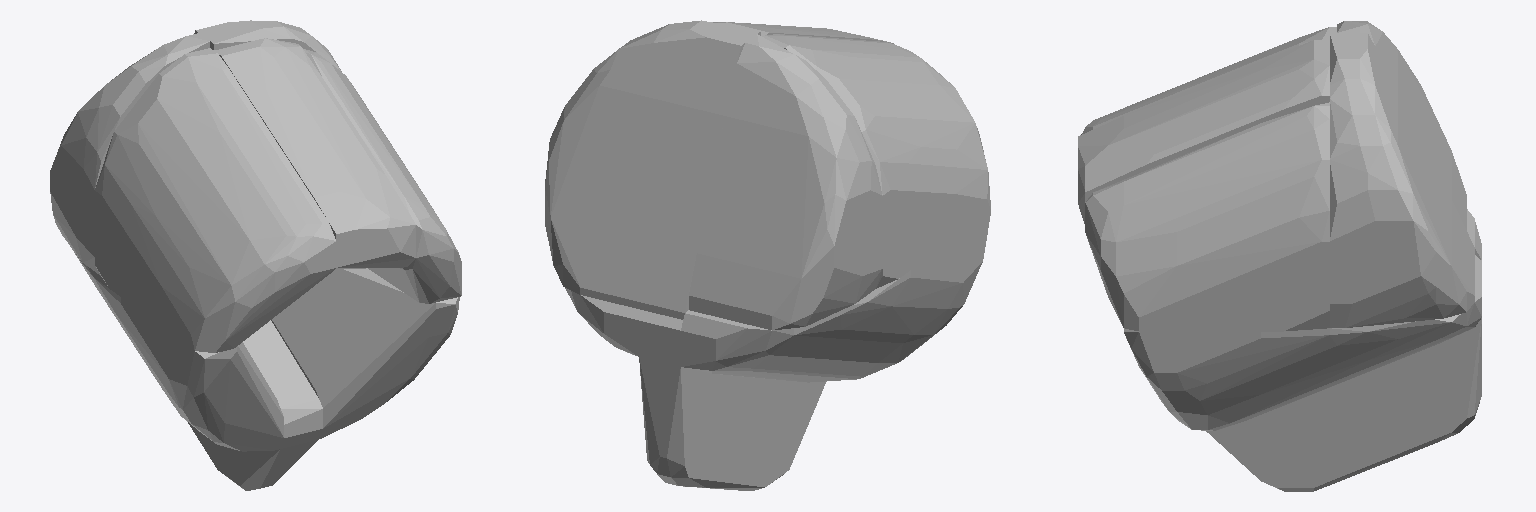
The robot description file, URDF, robot "root":
<robot name="root">
  <link name="link_ec846432f3ebedf0a6f32a8797e3b9e9_convex_piece_0">
    <inertial>
      <origin rpy="0 0 0" xyz="0 0 0"/>
      <mass value="2.76E-06"/>
      <inertia ixx="3.30E-10" ixy="1.50E-11" ixz="1.36E-10" iyy="3.80E-10" iyz="-5.29E-12" izz="5.40E-10"/>
    </inertial>
    <visual>
      <origin rpy="0 0 0" xyz="0 0 0"/>
      <geometry>
        <mesh filename="ec846432f3ebedf0a6f32a8797e3b9e9_convex_piece_0.obj" scale="1.0000E+00"/>
      </geometry>
      <material name="">
        <color rgba="7.50E-01 7.50E-01 7.50E-01 1"/>
      </material>
    </visual>
    <collision>
      <origin rpy="0 0 0" xyz="0 0 0"/>
      <geometry>
        <mesh filename="ec846432f3ebedf0a6f32a8797e3b9e9_convex_piece_0.obj" scale="1.0000E+00"/>
      </geometry>
    </collision>
  </link>
  <link name="link_ec846432f3ebedf0a6f32a8797e3b9e9_convex_piece_1">
    <inertial>
      <origin rpy="0 0 0" xyz="0 0 0"/>
      <mass value="3.05E-06"/>
      <inertia ixx="6.89E-10" ixy="1.66E-10" ixz="-3.15E-10" iyy="7.91E-10" iyz="-1.97E-10" izz="6.33E-10"/>
    </inertial>
    <visual>
      <origin rpy="0 0 0" xyz="0 0 0"/>
      <geometry>
        <mesh filename="ec846432f3ebedf0a6f32a8797e3b9e9_convex_piece_1.obj" scale="1.0000E+00"/>
      </geometry>
      <material name="">
        <color rgba="7.50E-01 7.50E-01 7.50E-01 1"/>
      </material>
    </visual>
    <collision>
      <origin rpy="0 0 0" xyz="0 0 0"/>
      <geometry>
        <mesh filename="ec846432f3ebedf0a6f32a8797e3b9e9_convex_piece_1.obj" scale="1.0000E+00"/>
      </geometry>
    </collision>
  </link>
  <joint name="link_ec846432f3ebedf0a6f32a8797e3b9e9_convex_piece_1_joint" type="fixed">
    <origin rpy="0 0 0" xyz="0 0 0"/>
    <parent link="link_ec846432f3ebedf0a6f32a8797e3b9e9_convex_piece_0"/>
    <child link="link_ec846432f3ebedf0a6f32a8797e3b9e9_convex_piece_1"/>
  </joint>
  <link name="link_ec846432f3ebedf0a6f32a8797e3b9e9_convex_piece_2">
    <inertial>
      <origin rpy="0 0 0" xyz="0 0 0"/>
      <mass value="1.81E-06"/>
      <inertia ixx="5.38E-10" ixy="-2.20E-10" ixz="-1.93E-10" iyy="4.74E-10" iyz="2.05E-10" izz="4.96E-10"/>
    </inertial>
    <visual>
      <origin rpy="0 0 0" xyz="0 0 0"/>
      <geometry>
        <mesh filename="ec846432f3ebedf0a6f32a8797e3b9e9_convex_piece_2.obj" scale="1.0000E+00"/>
      </geometry>
      <material name="">
        <color rgba="7.50E-01 7.50E-01 7.50E-01 1"/>
      </material>
    </visual>
    <collision>
      <origin rpy="0 0 0" xyz="0 0 0"/>
      <geometry>
        <mesh filename="ec846432f3ebedf0a6f32a8797e3b9e9_convex_piece_2.obj" scale="1.0000E+00"/>
      </geometry>
    </collision>
  </link>
  <joint name="link_ec846432f3ebedf0a6f32a8797e3b9e9_convex_piece_2_joint" type="fixed">
    <origin rpy="0 0 0" xyz="0 0 0"/>
    <parent link="link_ec846432f3ebedf0a6f32a8797e3b9e9_convex_piece_1"/>
    <child link="link_ec846432f3ebedf0a6f32a8797e3b9e9_convex_piece_2"/>
  </joint>
  <link name="link_ec846432f3ebedf0a6f32a8797e3b9e9_convex_piece_3">
    <inertial>
      <origin rpy="0 0 0" xyz="0 0 0"/>
      <mass value="1.70E-06"/>
      <inertia ixx="6.01E-10" ixy="8.64E-13" ixz="-1.66E-12" iyy="3.80E-10" iyz="-1.74E-10" izz="2.28E-10"/>
    </inertial>
    <visual>
      <origin rpy="0 0 0" xyz="0 0 0"/>
      <geometry>
        <mesh filename="ec846432f3ebedf0a6f32a8797e3b9e9_convex_piece_3.obj" scale="1.0000E+00"/>
      </geometry>
      <material name="">
        <color rgba="7.50E-01 7.50E-01 7.50E-01 1"/>
      </material>
    </visual>
    <collision>
      <origin rpy="0 0 0" xyz="0 0 0"/>
      <geometry>
        <mesh filename="ec846432f3ebedf0a6f32a8797e3b9e9_convex_piece_3.obj" scale="1.0000E+00"/>
      </geometry>
    </collision>
  </link>
  <joint name="link_ec846432f3ebedf0a6f32a8797e3b9e9_convex_piece_3_joint" type="fixed">
    <origin rpy="0 0 0" xyz="0 0 0"/>
    <parent link="link_ec846432f3ebedf0a6f32a8797e3b9e9_convex_piece_2"/>
    <child link="link_ec846432f3ebedf0a6f32a8797e3b9e9_convex_piece_3"/>
  </joint>
  <link name="link_ec846432f3ebedf0a6f32a8797e3b9e9_convex_piece_4">
    <inertial>
      <origin rpy="0 0 0" xyz="0 0 0"/>
      <mass value="2.48E-06"/>
      <inertia ixx="2.99E-10" ixy="-1.91E-11" ixz="-1.36E-10" iyy="3.52E-10" iyz="-3.58E-12" izz="4.78E-10"/>
    </inertial>
    <visual>
      <origin rpy="0 0 0" xyz="0 0 0"/>
      <geometry>
        <mesh filename="ec846432f3ebedf0a6f32a8797e3b9e9_convex_piece_4.obj" scale="1.0000E+00"/>
      </geometry>
      <material name="">
        <color rgba="7.50E-01 7.50E-01 7.50E-01 1"/>
      </material>
    </visual>
    <collision>
      <origin rpy="0 0 0" xyz="0 0 0"/>
      <geometry>
        <mesh filename="ec846432f3ebedf0a6f32a8797e3b9e9_convex_piece_4.obj" scale="1.0000E+00"/>
      </geometry>
    </collision>
  </link>
  <joint name="link_ec846432f3ebedf0a6f32a8797e3b9e9_convex_piece_4_joint" type="fixed">
    <origin rpy="0 0 0" xyz="0 0 0"/>
    <parent link="link_ec846432f3ebedf0a6f32a8797e3b9e9_convex_piece_3"/>
    <child link="link_ec846432f3ebedf0a6f32a8797e3b9e9_convex_piece_4"/>
  </joint>
  <link name="link_ec846432f3ebedf0a6f32a8797e3b9e9_convex_piece_5">
    <inertial>
      <origin rpy="0 0 0" xyz="0 0 0"/>
      <mass value="2.77E-06"/>
      <inertia ixx="8.27E-10" ixy="2.48E-10" ixz="2.16E-10" iyy="6.62E-10" iyz="2.98E-10" izz="6.66E-10"/>
    </inertial>
    <visual>
      <origin rpy="0 0 0" xyz="0 0 0"/>
      <geometry>
        <mesh filename="ec846432f3ebedf0a6f32a8797e3b9e9_convex_piece_5.obj" scale="1.0000E+00"/>
      </geometry>
      <material name="">
        <color rgba="7.50E-01 7.50E-01 7.50E-01 1"/>
      </material>
    </visual>
    <collision>
      <origin rpy="0 0 0" xyz="0 0 0"/>
      <geometry>
        <mesh filename="ec846432f3ebedf0a6f32a8797e3b9e9_convex_piece_5.obj" scale="1.0000E+00"/>
      </geometry>
    </collision>
  </link>
  <joint name="link_ec846432f3ebedf0a6f32a8797e3b9e9_convex_piece_5_joint" type="fixed">
    <origin rpy="0 0 0" xyz="0 0 0"/>
    <parent link="link_ec846432f3ebedf0a6f32a8797e3b9e9_convex_piece_4"/>
    <child link="link_ec846432f3ebedf0a6f32a8797e3b9e9_convex_piece_5"/>
  </joint>
  <link name="link_ec846432f3ebedf0a6f32a8797e3b9e9_convex_piece_6">
    <inertial>
      <origin rpy="0 0 0" xyz="0 0 0"/>
      <mass value="1.43E-06"/>
      <inertia ixx="5.71E-10" ixy="-3.76E-11" ixz="7.42E-11" iyy="4.21E-10" iyz="-1.75E-10" izz="2.09E-10"/>
    </inertial>
    <visual>
      <origin rpy="0 0 0" xyz="0 0 0"/>
      <geometry>
        <mesh filename="ec846432f3ebedf0a6f32a8797e3b9e9_convex_piece_6.obj" scale="1.0000E+00"/>
      </geometry>
      <material name="">
        <color rgba="7.50E-01 7.50E-01 7.50E-01 1"/>
      </material>
    </visual>
    <collision>
      <origin rpy="0 0 0" xyz="0 0 0"/>
      <geometry>
        <mesh filename="ec846432f3ebedf0a6f32a8797e3b9e9_convex_piece_6.obj" scale="1.0000E+00"/>
      </geometry>
    </collision>
  </link>
  <joint name="link_ec846432f3ebedf0a6f32a8797e3b9e9_convex_piece_6_joint" type="fixed">
    <origin rpy="0 0 0" xyz="0 0 0"/>
    <parent link="link_ec846432f3ebedf0a6f32a8797e3b9e9_convex_piece_5"/>
    <child link="link_ec846432f3ebedf0a6f32a8797e3b9e9_convex_piece_6"/>
  </joint>
  <link name="link_ec846432f3ebedf0a6f32a8797e3b9e9_convex_piece_7">
    <inertial>
      <origin rpy="0 0 0" xyz="0 0 0"/>
      <mass value="1.80E-06"/>
      <inertia ixx="2.96E-10" ixy="-1.30E-10" ixz="2.01E-10" iyy="4.73E-10" iyz="-9.42E-11" izz="4.61E-10"/>
    </inertial>
    <visual>
      <origin rpy="0 0 0" xyz="0 0 0"/>
      <geometry>
        <mesh filename="ec846432f3ebedf0a6f32a8797e3b9e9_convex_piece_7.obj" scale="1.0000E+00"/>
      </geometry>
      <material name="">
        <color rgba="7.50E-01 7.50E-01 7.50E-01 1"/>
      </material>
    </visual>
    <collision>
      <origin rpy="0 0 0" xyz="0 0 0"/>
      <geometry>
        <mesh filename="ec846432f3ebedf0a6f32a8797e3b9e9_convex_piece_7.obj" scale="1.0000E+00"/>
      </geometry>
    </collision>
  </link>
  <joint name="link_ec846432f3ebedf0a6f32a8797e3b9e9_convex_piece_7_joint" type="fixed">
    <origin rpy="0 0 0" xyz="0 0 0"/>
    <parent link="link_ec846432f3ebedf0a6f32a8797e3b9e9_convex_piece_6"/>
    <child link="link_ec846432f3ebedf0a6f32a8797e3b9e9_convex_piece_7"/>
  </joint>
</robot>

--- Render facts (derived) ---
The picture shows the robot from 3 angles, left to right: view 1: azimuth 30°, elevation 25°; view 2: azimuth 150°, elevation 25°; view 3: azimuth 270°, elevation 25°; orthographic projection.
Model root with 8 links and 7 joints (7 fixed), rooted at link_ec846432f3ebedf0a6f32a8797e3b9e9_convex_piece_0, posed all joints at 0.
Visible links, largest first — view 1: link_ec846432f3ebedf0a6f32a8797e3b9e9_convex_piece_1, link_ec846432f3ebedf0a6f32a8797e3b9e9_convex_piece_6, link_ec846432f3ebedf0a6f32a8797e3b9e9_convex_piece_4, link_ec846432f3ebedf0a6f32a8797e3b9e9_convex_piece_0, link_ec846432f3ebedf0a6f32a8797e3b9e9_convex_piece_2, link_ec846432f3ebedf0a6f32a8797e3b9e9_convex_piece_7, link_ec846432f3ebedf0a6f32a8797e3b9e9_convex_piece_3, link_ec846432f3ebedf0a6f32a8797e3b9e9_convex_piece_5; view 2: link_ec846432f3ebedf0a6f32a8797e3b9e9_convex_piece_5, link_ec846432f3ebedf0a6f32a8797e3b9e9_convex_piece_2, link_ec846432f3ebedf0a6f32a8797e3b9e9_convex_piece_1, link_ec846432f3ebedf0a6f32a8797e3b9e9_convex_piece_0, link_ec846432f3ebedf0a6f32a8797e3b9e9_convex_piece_3, link_ec846432f3ebedf0a6f32a8797e3b9e9_convex_piece_4, link_ec846432f3ebedf0a6f32a8797e3b9e9_convex_piece_6; view 3: link_ec846432f3ebedf0a6f32a8797e3b9e9_convex_piece_7, link_ec846432f3ebedf0a6f32a8797e3b9e9_convex_piece_5, link_ec846432f3ebedf0a6f32a8797e3b9e9_convex_piece_3, link_ec846432f3ebedf0a6f32a8797e3b9e9_convex_piece_4, link_ec846432f3ebedf0a6f32a8797e3b9e9_convex_piece_6, link_ec846432f3ebedf0a6f32a8797e3b9e9_convex_piece_2, link_ec846432f3ebedf0a6f32a8797e3b9e9_convex_piece_1.
Link boxes in pixels (left/top/right/bottom): link_ec846432f3ebedf0a6f32a8797e3b9e9_convex_piece_1: left=95, top=48, right=335, bottom=352; link_ec846432f3ebedf0a6f32a8797e3b9e9_convex_piece_6: left=214, top=38, right=415, bottom=268; link_ec846432f3ebedf0a6f32a8797e3b9e9_convex_piece_4: left=271, top=268, right=459, bottom=438; link_ec846432f3ebedf0a6f32a8797e3b9e9_convex_piece_0: left=70, top=246, right=283, bottom=451; link_ec846432f3ebedf0a6f32a8797e3b9e9_convex_piece_2: left=50, top=33, right=209, bottom=275; link_ec846432f3ebedf0a6f32a8797e3b9e9_convex_piece_7: left=303, top=49, right=461, bottom=303; link_ec846432f3ebedf0a6f32a8797e3b9e9_convex_piece_3: left=188, top=320, right=322, bottom=490; link_ec846432f3ebedf0a6f32a8797e3b9e9_convex_piece_5: left=194, top=20, right=341, bottom=71; link_ec846432f3ebedf0a6f32a8797e3b9e9_convex_piece_5: left=545, top=20, right=760, bottom=319; link_ec846432f3ebedf0a6f32a8797e3b9e9_convex_piece_2: left=689, top=34, right=882, bottom=330; link_ec846432f3ebedf0a6f32a8797e3b9e9_convex_piece_1: left=764, top=34, right=990, bottom=288; link_ec846432f3ebedf0a6f32a8797e3b9e9_convex_piece_0: left=681, top=212, right=990, bottom=382; link_ec846432f3ebedf0a6f32a8797e3b9e9_convex_piece_3: left=639, top=310, right=826, bottom=490; link_ec846432f3ebedf0a6f32a8797e3b9e9_convex_piece_4: left=565, top=288, right=642, bottom=356; link_ec846432f3ebedf0a6f32a8797e3b9e9_convex_piece_6: left=713, top=22, right=893, bottom=43; link_ec846432f3ebedf0a6f32a8797e3b9e9_convex_piece_7: left=1085, top=102, right=1329, bottom=331; link_ec846432f3ebedf0a6f32a8797e3b9e9_convex_piece_5: left=1330, top=33, right=1474, bottom=327; link_ec846432f3ebedf0a6f32a8797e3b9e9_convex_piece_3: left=1206, top=255, right=1481, bottom=491; link_ec846432f3ebedf0a6f32a8797e3b9e9_convex_piece_4: left=1124, top=274, right=1481, bottom=430; link_ec846432f3ebedf0a6f32a8797e3b9e9_convex_piece_6: left=1078, top=40, right=1329, bottom=223; link_ec846432f3ebedf0a6f32a8797e3b9e9_convex_piece_2: left=1337, top=21, right=1466, bottom=229; link_ec846432f3ebedf0a6f32a8797e3b9e9_convex_piece_1: left=1081, top=27, right=1336, bottom=134.
Size in the robot's own frame: 0.0363 by 0.0458 by 0.0553 metres.
Meshes: 8 distinct files referenced, 8 mesh visuals loaded (8 OBJ).